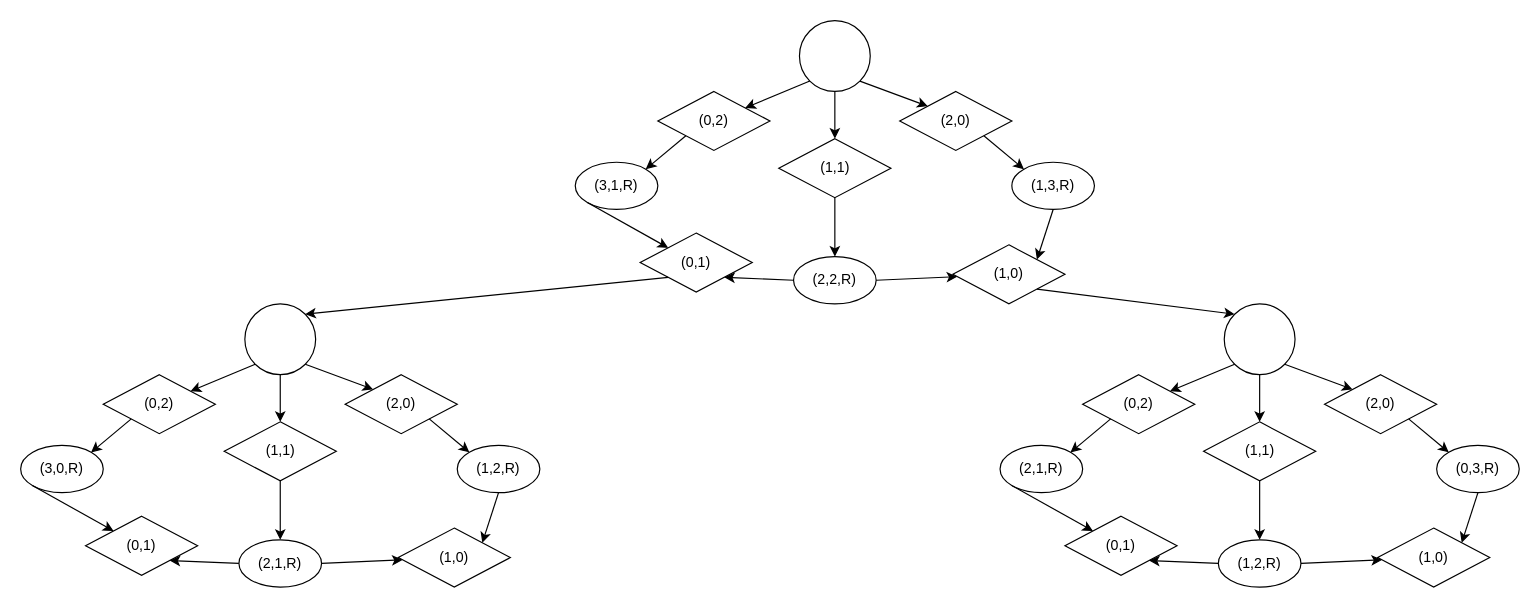
Image size: 1540x608. Some labels were removed from this diagram. Each missing label, with the centre of its shape:
"(2,3,L)" goes at (x=1259, y=339).
"(3,2,L)" goes at (x=280, y=339).
"(3,3,L)" goes at (x=834, y=55).
